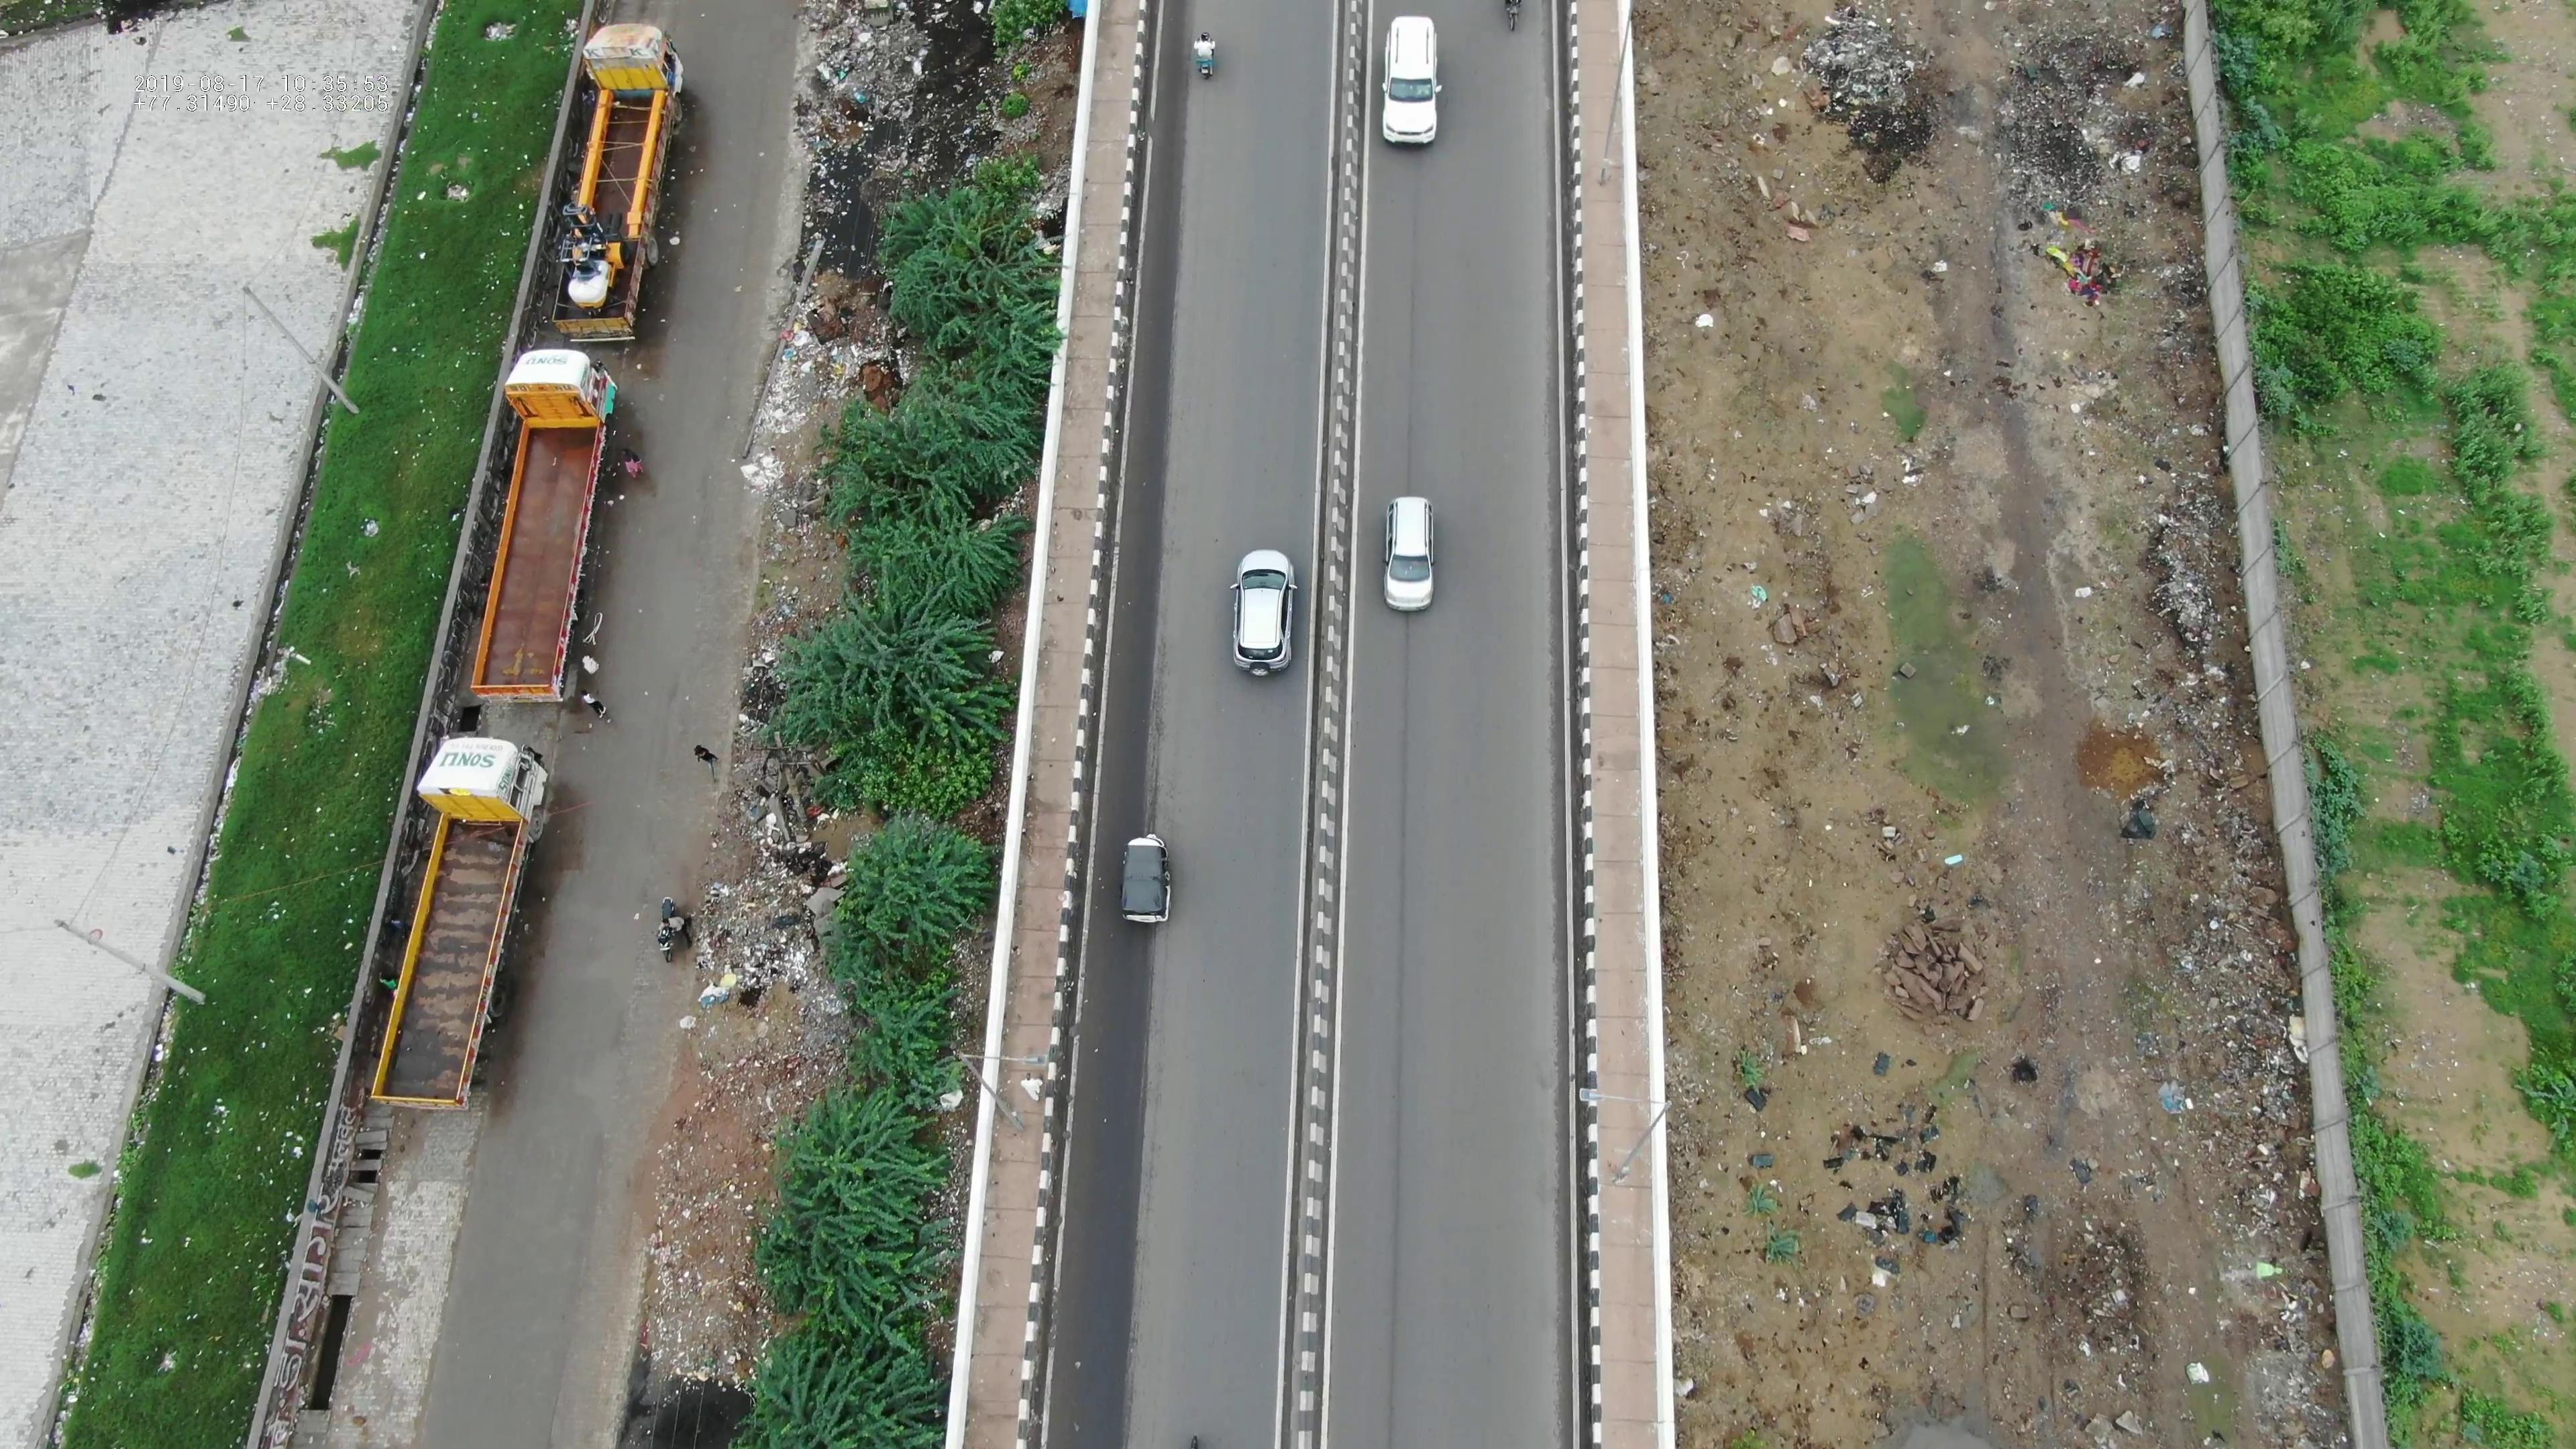Road_side_garbage: (773, 7, 1021, 310)
